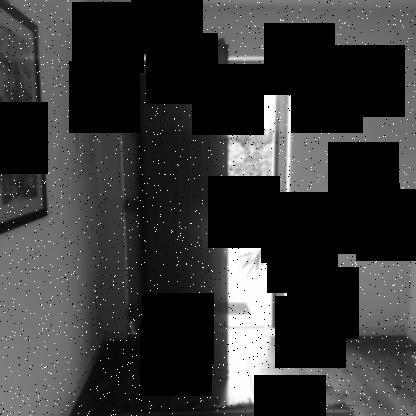Porte: (113, 35, 294, 380)
